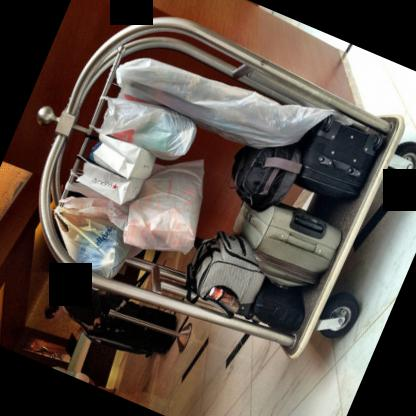backpack: (189, 227, 266, 314), (231, 143, 303, 212)
handbag: (91, 96, 202, 161)
suitcase: (231, 199, 342, 288), (294, 115, 389, 204), (184, 228, 266, 318), (128, 304, 176, 356)
